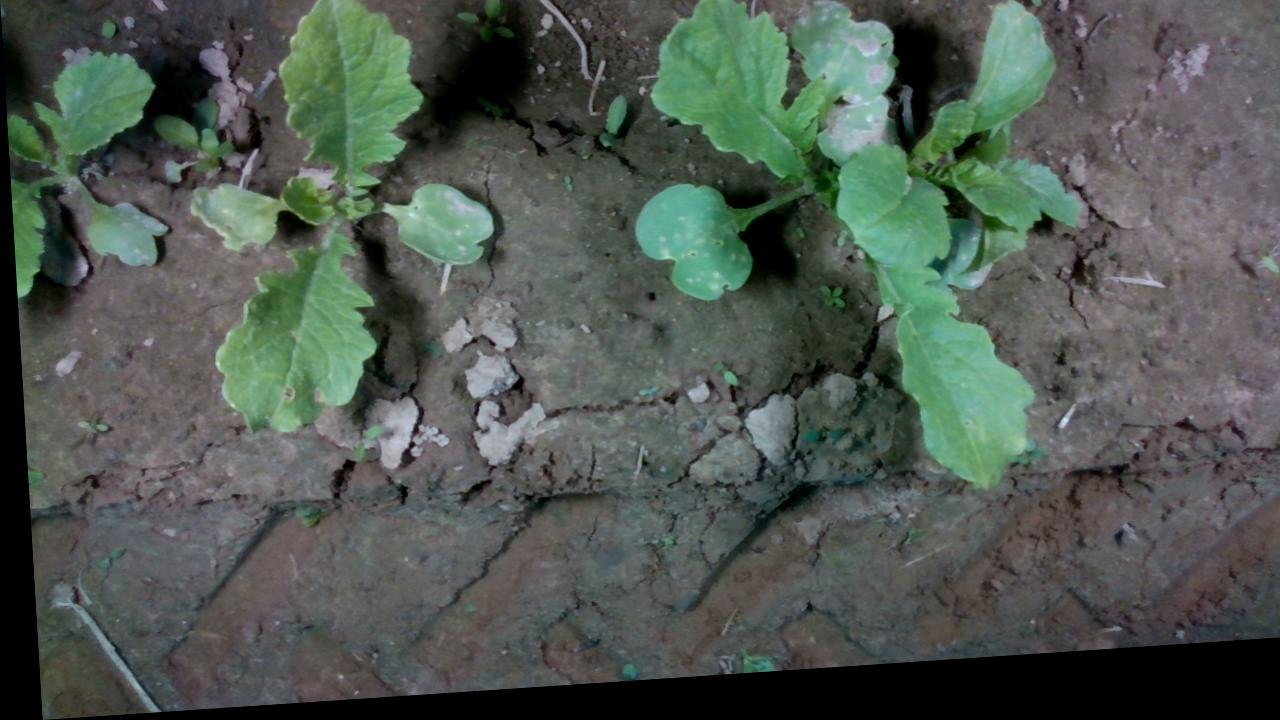weed: (813, 293, 841, 322), (1020, 0, 1044, 24), (831, 239, 844, 257), (560, 181, 570, 201)
